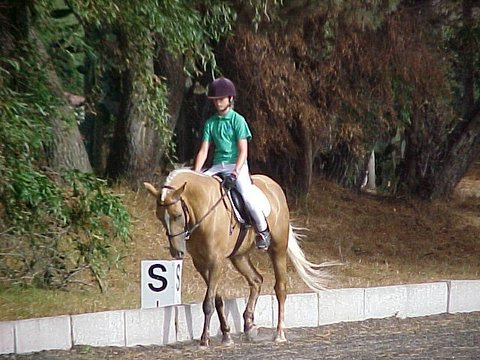without_mask: (211, 91, 235, 114)
